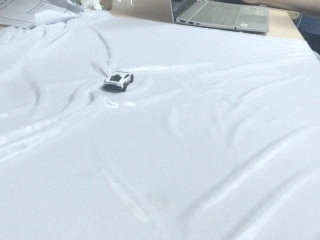toy_car: (103, 70, 134, 92)
